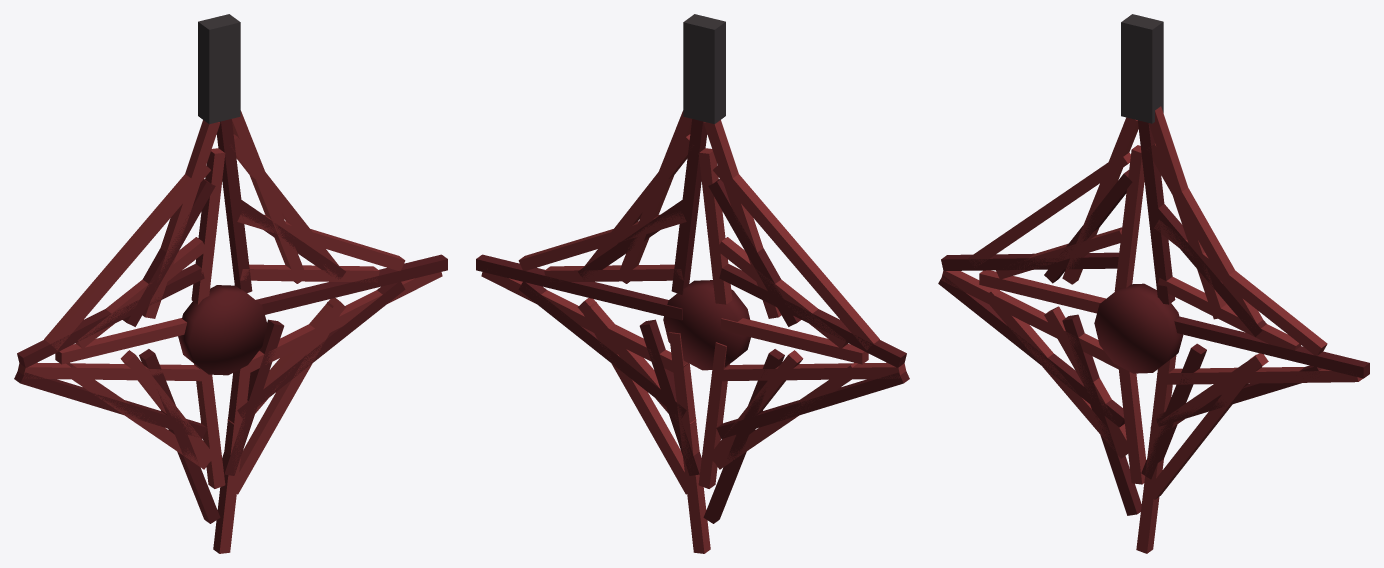
File: frontyard_door_wreath.glb
The picture shows the model from 3 angles, left to right: view 1: azimuth 30°, elevation 25°; view 2: azimuth 150°, elevation 25°; view 3: azimuth 330°, elevation 25°; orthographic projection.
Visible parts, largest first — view 1: root; view 2: root; view 3: root.
Boxes of the visible parts, x1,y1,x2,y2 form: root: (14, 14, 447, 553); root: (476, 14, 909, 553); root: (938, 14, 1369, 553).
Size of the model in its own units: 0.6648 by 0.7879 by 0.0396.
